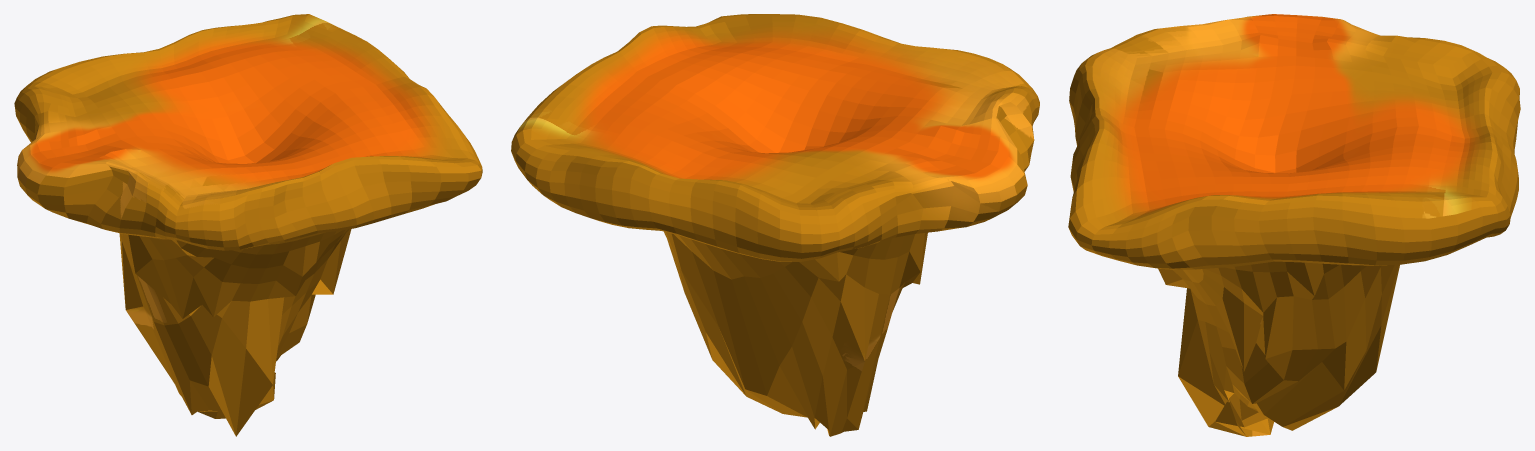
The model's file is Castle  Ground.fbx.
3 views of the same model, side by side, from view 1: azimuth 30°, elevation 25°; view 2: azimuth 150°, elevation 25°; view 3: azimuth 270°, elevation 25° (orthographic). The views are drawn at different scales.
Visible parts, largest first — view 1: Cube.020; view 2: Cube.020; view 3: Cube.020.
Part boxes in pixels (bbox=[...]): Cube.020: bbox=[14, 14, 482, 436]; Cube.020: bbox=[511, 14, 1039, 436]; Cube.020: bbox=[1068, 14, 1520, 436].
Bounding box in the file's own units: 3656 × 2710 × 3227.
